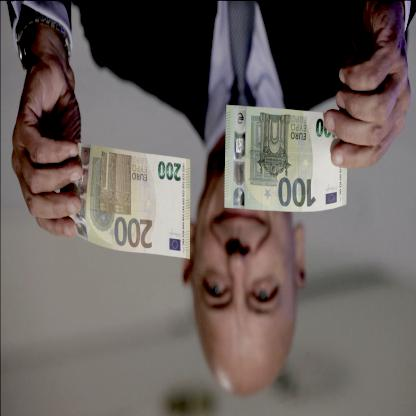euro_banknote: (223, 109, 352, 212), (72, 150, 197, 253)
